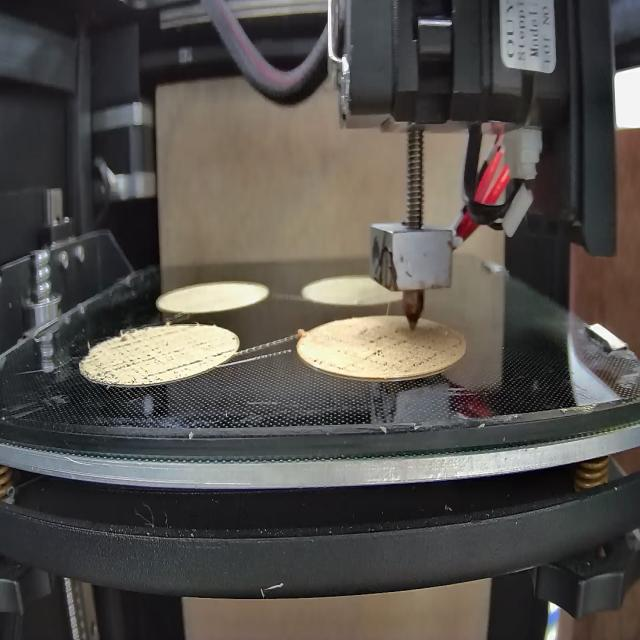under_extrusion: (314, 326, 460, 370), (88, 337, 204, 385), (211, 346, 234, 364)
